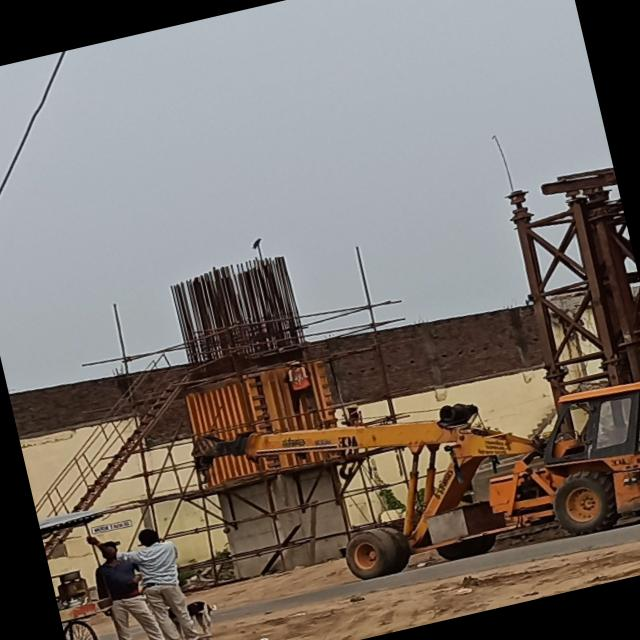white-sand: (194, 542, 640, 640), (188, 559, 356, 609)
